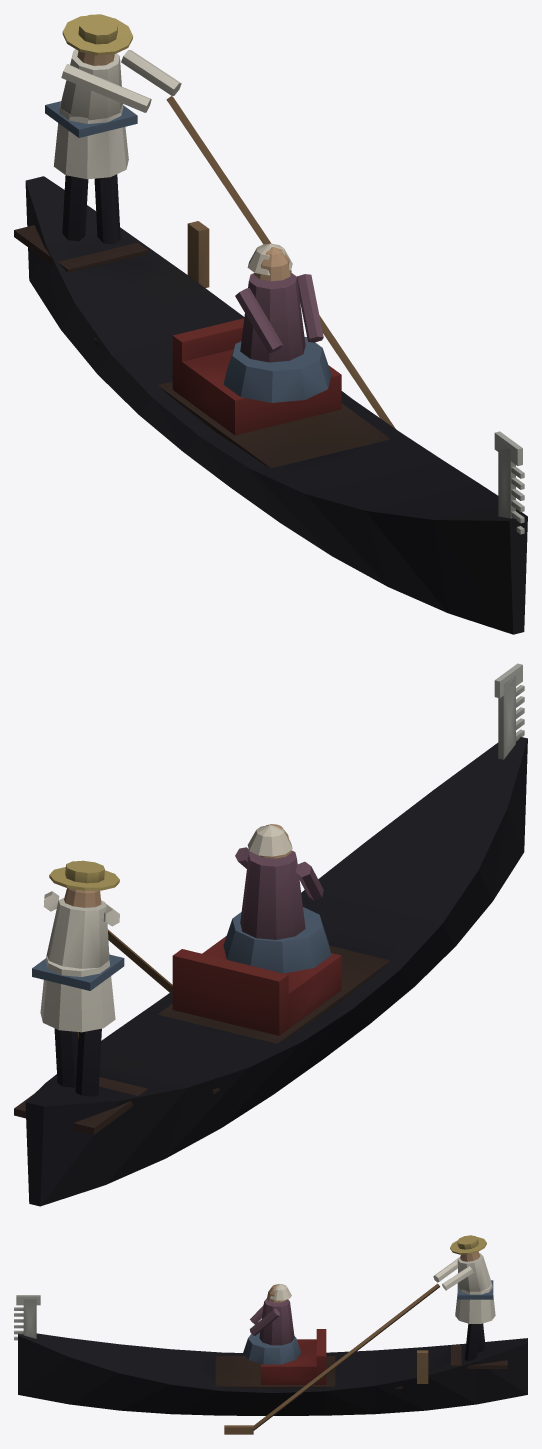
Rendered from skiff.glb.
The picture shows the model from 3 angles, top to bottom: view 1: azimuth 30°, elevation 25°; view 2: azimuth 150°, elevation 25°; view 3: azimuth 270°, elevation 25°; orthographic projection. The views are drawn at different scales.
Parts seen in each view (by area): view 1: base; view 2: base; view 3: base.
Part boxes in pixels (x1,y1,x2,y2): base: (14, 14, 527, 634); base: (14, 663, 527, 1206); base: (14, 1235, 527, 1434).
Size of the model in its own units: 1.47 by 2.29 by 6.35.
